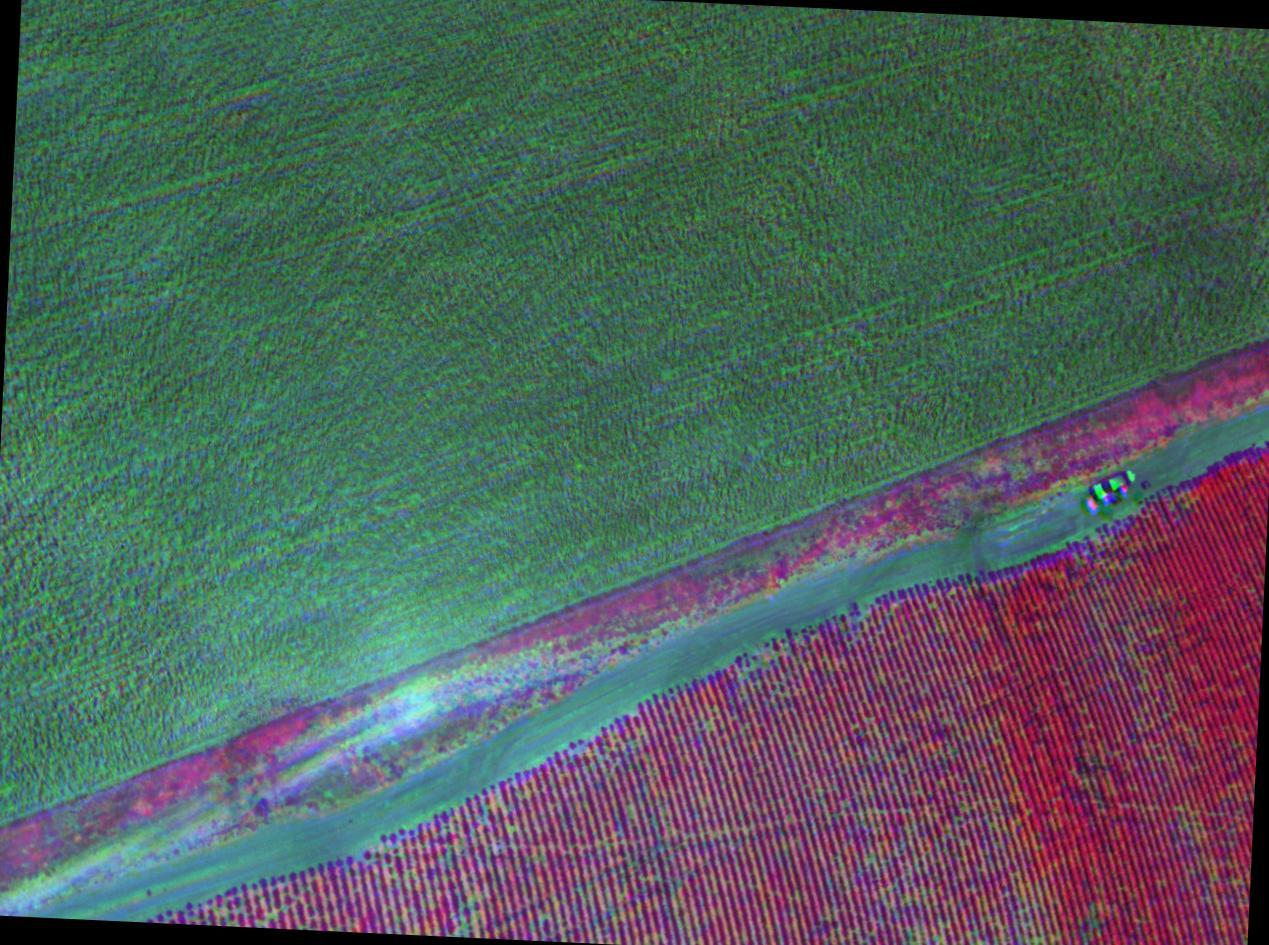dc: (444, 877, 500, 939), (222, 895, 308, 934), (995, 887, 1053, 944), (344, 834, 410, 878), (739, 640, 802, 685), (892, 907, 965, 945), (834, 598, 891, 638), (594, 728, 644, 772)
